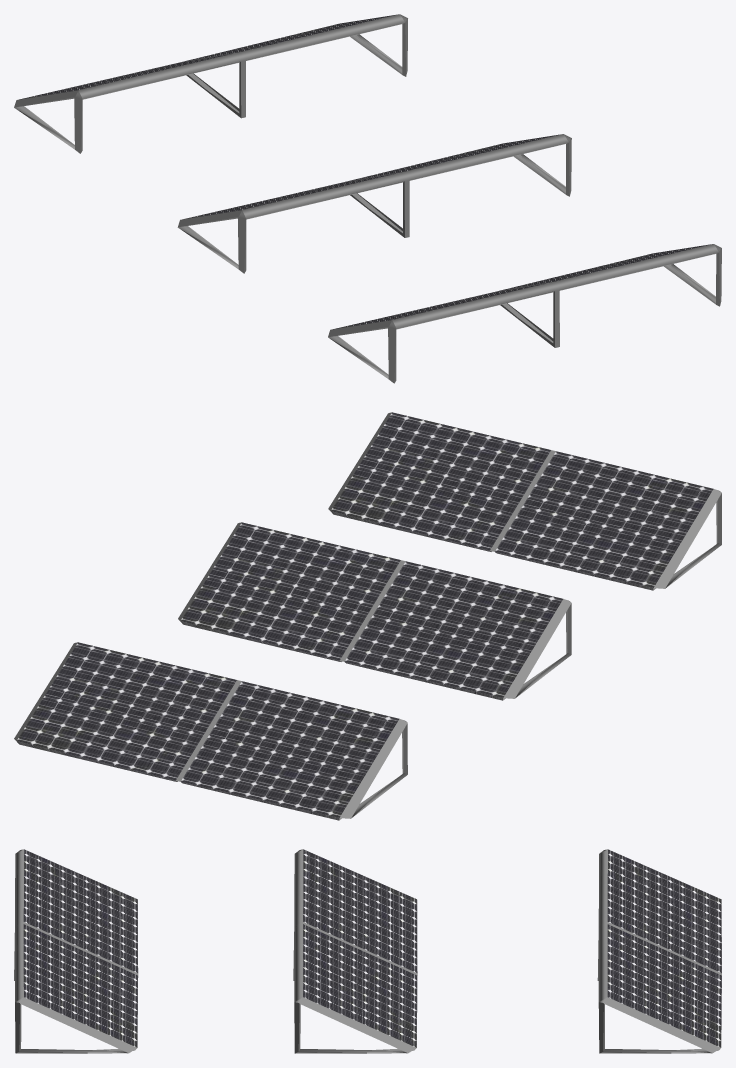
Rendered from photovoltaic_panel.glb.
3 renders of one model, top to bottom at view 1: azimuth 30°, elevation 25°; view 2: azimuth 150°, elevation 25°; view 3: azimuth 270°, elevation 25°, orthographic. The views are drawn at different scales.
Visible parts, largest first — view 1: photovoltaic_panel.002, photovoltaic_panel.003, photovoltaic_panel.001; view 2: photovoltaic_panel.002, photovoltaic_panel.001, photovoltaic_panel.003; view 3: photovoltaic_panel.002, photovoltaic_panel.001, photovoltaic_panel.003.
Part boxes in pixels (left/top/right/bottom): photovoltaic_panel.002: left=177, top=134, right=571, bottom=273; photovoltaic_panel.003: left=328, top=244, right=721, bottom=383; photovoltaic_panel.001: left=14, top=14, right=407, bottom=153; photovoltaic_panel.002: left=178, top=522, right=571, bottom=700; photovoltaic_panel.001: left=14, top=642, right=407, bottom=820; photovoltaic_panel.003: left=328, top=412, right=721, bottom=590; photovoltaic_panel.002: left=293, top=849, right=417, bottom=1053; photovoltaic_panel.001: left=597, top=849, right=721, bottom=1053; photovoltaic_panel.003: left=14, top=849, right=138, bottom=1053.
Bounding box in the file's own units: 2.13 × 0.3771 × 4.16.
Materials: 2 (1 with a texture image).
